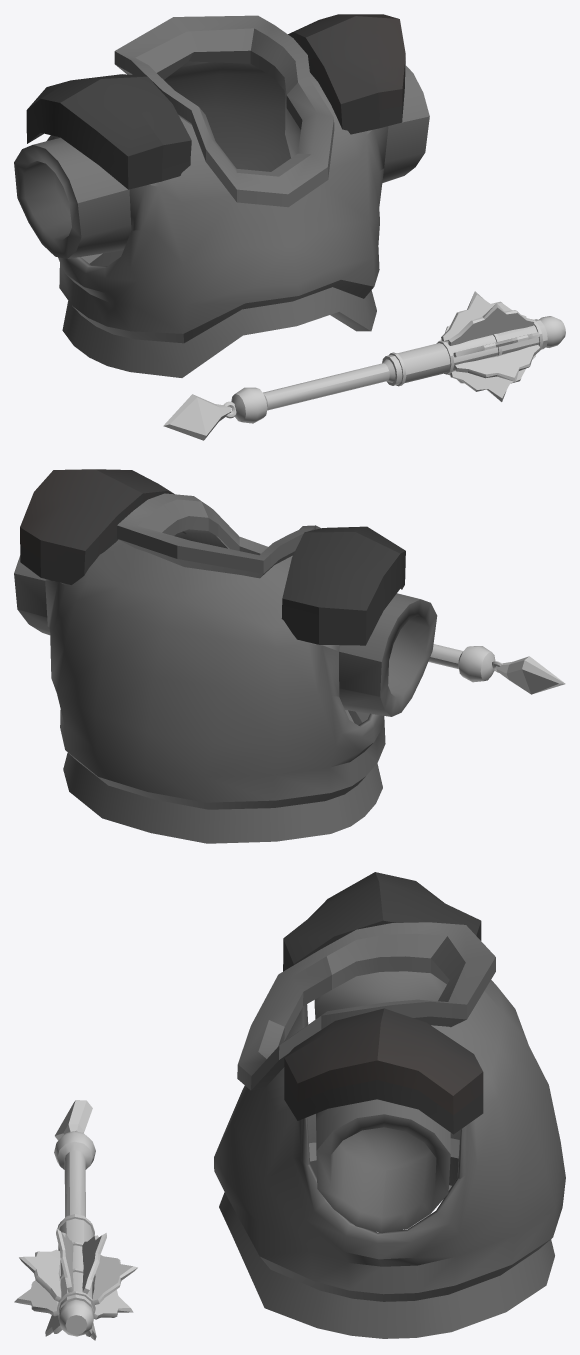
Rendered from kilic4zırh2.fbx.
The picture shows the model from 3 angles, top to bottom: view 1: azimuth 30°, elevation 25°; view 2: azimuth 150°, elevation 25°; view 3: azimuth 270°, elevation 25°; orthographic projection. The views are drawn at different scales.
Parts seen in each view (by area): view 1: asker lvl4 zırh.003, asker lvl4 zırh.001; view 2: asker lvl4 zırh.003, asker lvl4 zırh.001; view 3: asker lvl4 zırh.003, asker lvl4 zırh.001.
Boxes of the visible parts, x1=… form: asker lvl4 zırh.003: x1=14, y1=14, x2=429, y2=377; asker lvl4 zırh.001: x1=163, y1=291, x2=565, y2=440; asker lvl4 zırh.003: x1=14, y1=469, x2=437, y2=843; asker lvl4 zırh.001: x1=428, y1=644, x2=565, y2=694; asker lvl4 zırh.003: x1=214, y1=872, x2=565, y2=1338; asker lvl4 zırh.001: x1=14, y1=1100, x2=137, y2=1340.
Bounding box in the file's own units: 154 × 104 × 163.
